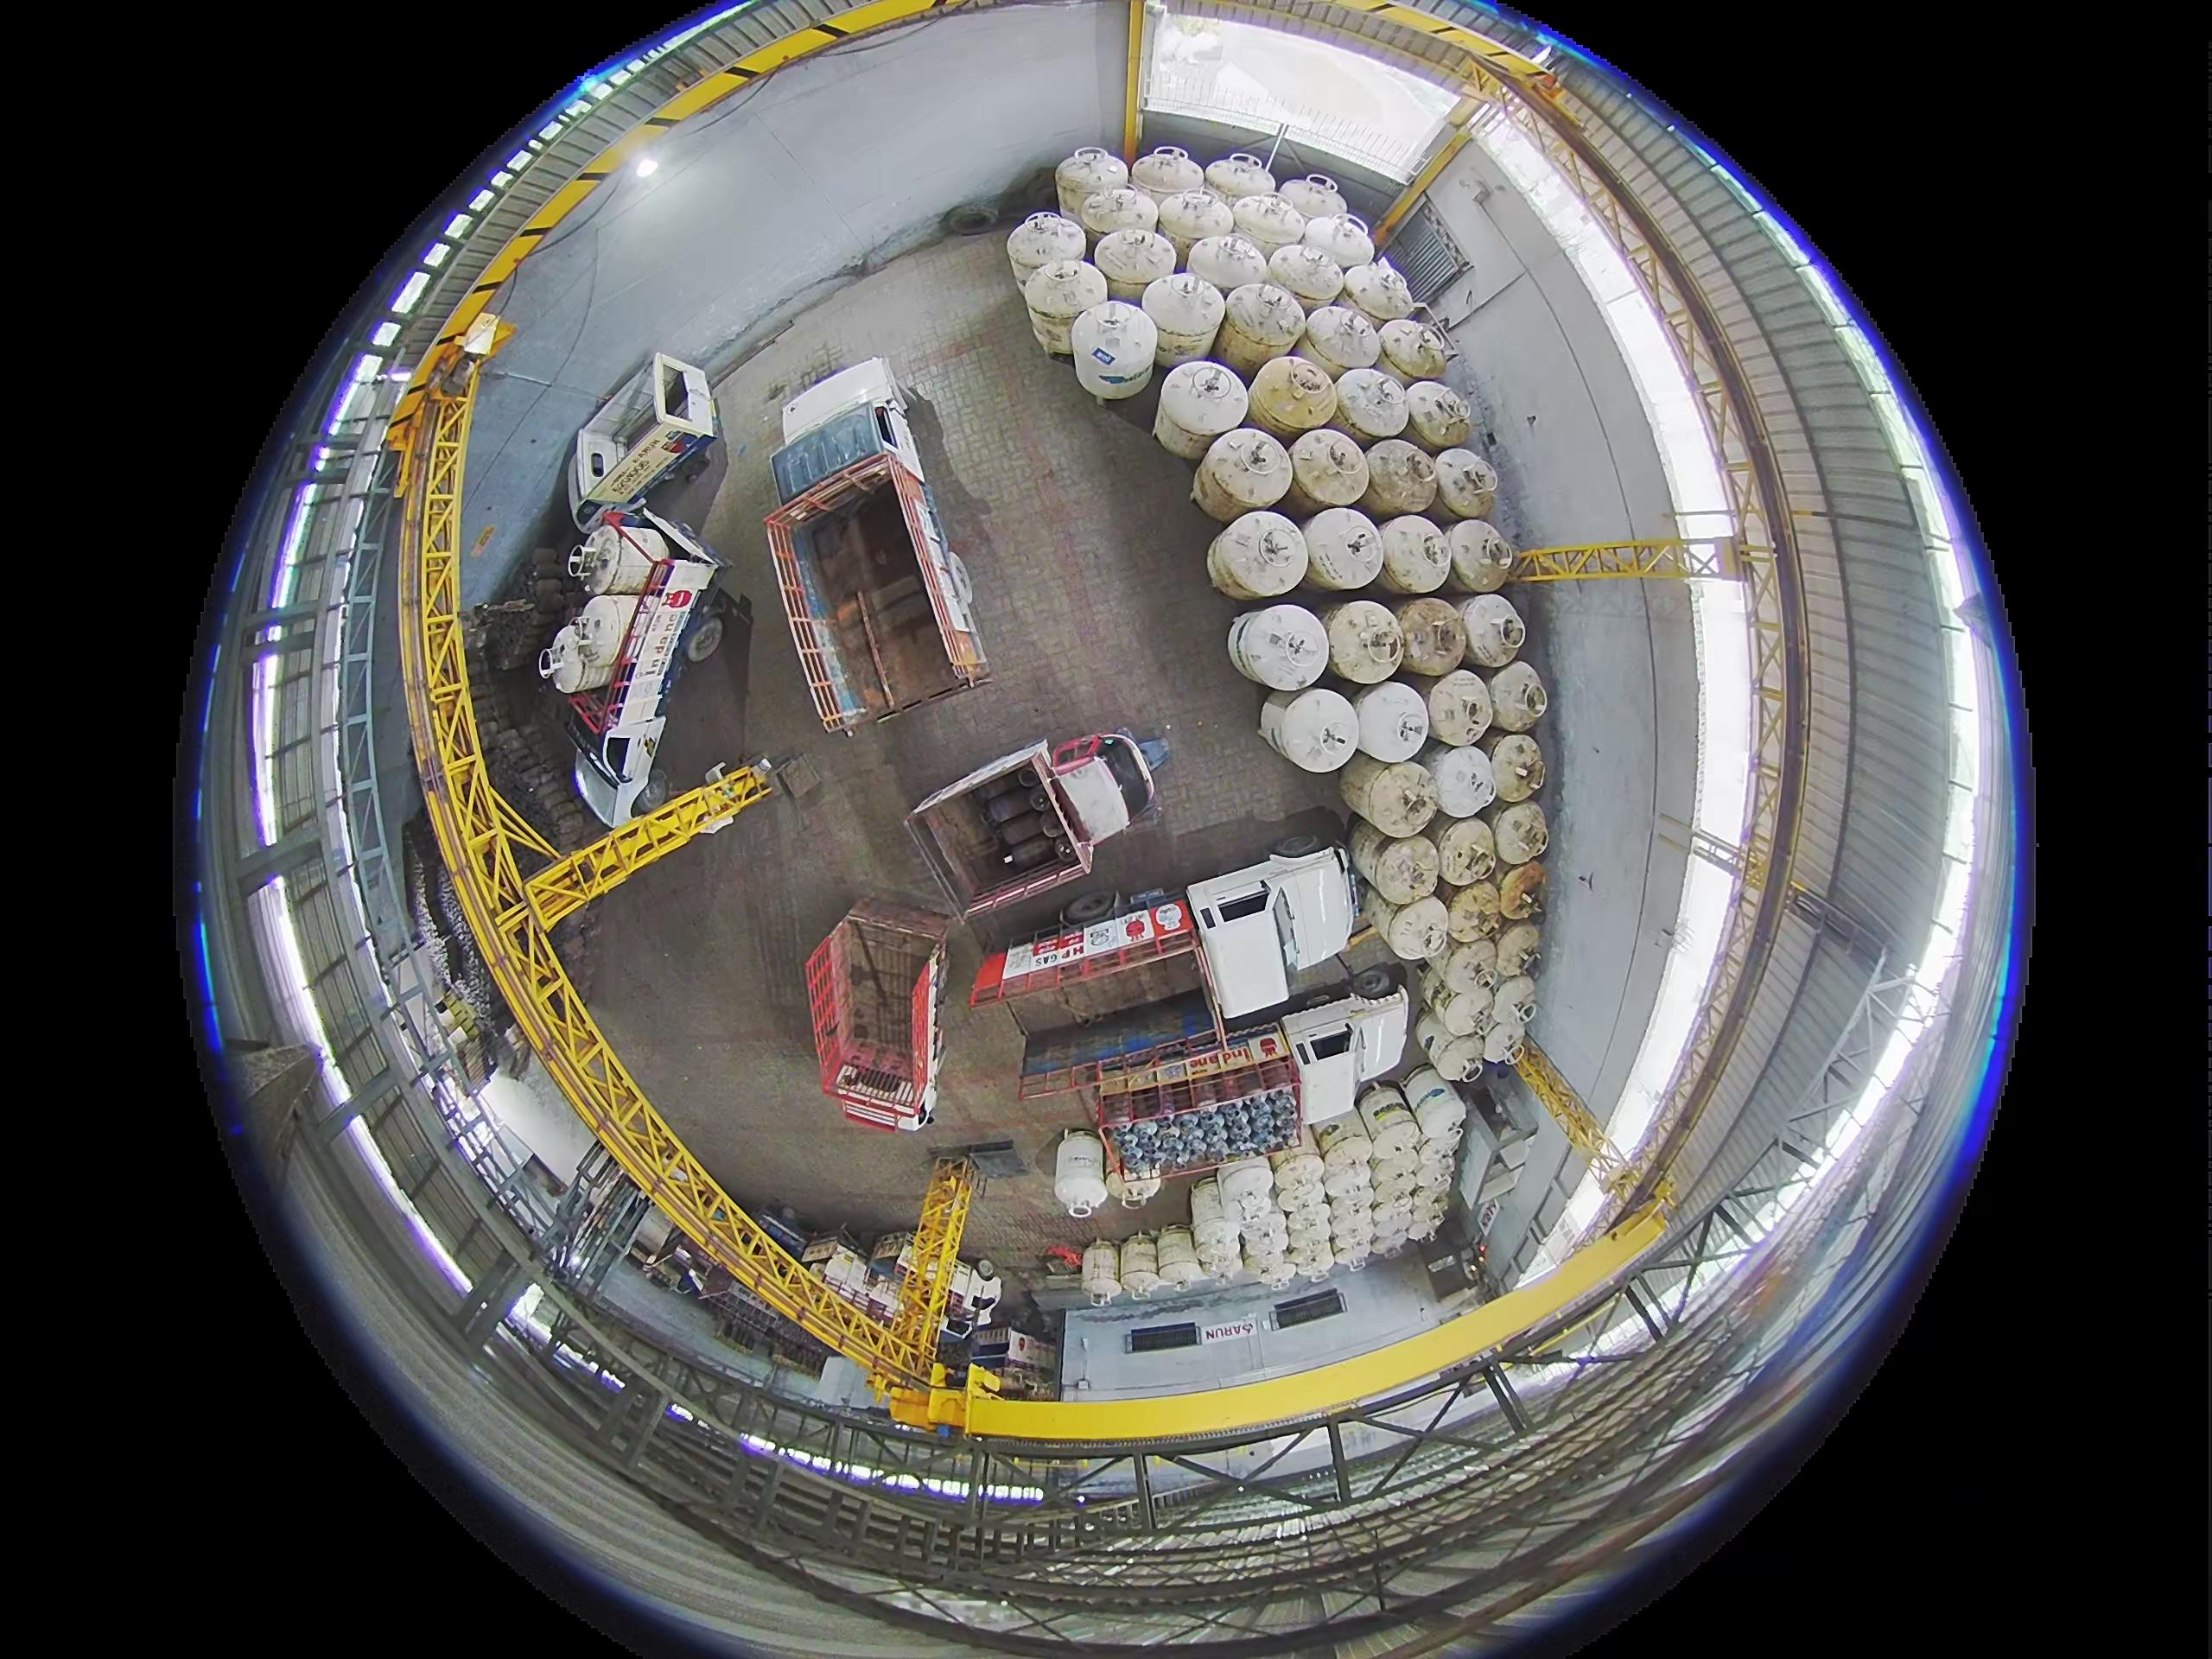cylinder: (1200, 605, 1330, 690), (541, 595, 642, 695), (1156, 359, 1250, 460), (1206, 511, 1309, 601), (1020, 257, 1105, 360), (1141, 271, 1227, 371), (1069, 301, 1154, 400), (1217, 280, 1304, 376), (565, 519, 666, 599), (1250, 354, 1340, 441), (1287, 428, 1372, 513), (1276, 686, 1362, 770), (1321, 600, 1407, 683), (1300, 507, 1385, 590), (1355, 682, 1433, 764), (1359, 759, 1440, 837), (1007, 211, 1086, 290), (1331, 365, 1410, 444), (1362, 438, 1440, 517), (1186, 230, 1272, 301), (1191, 445, 1268, 524), (1377, 514, 1452, 593), (1055, 148, 1128, 228), (1094, 226, 1174, 298), (1303, 304, 1382, 377), (1155, 190, 1234, 263), (1396, 596, 1468, 675), (1425, 669, 1496, 747), (1267, 239, 1344, 309), (1081, 184, 1157, 255), (1369, 835, 1442, 906), (1432, 447, 1502, 521), (1458, 594, 1528, 668), (1430, 744, 1499, 819), (1401, 380, 1472, 452), (1444, 518, 1514, 591), (1229, 191, 1305, 255), (1376, 317, 1449, 383), (1435, 814, 1501, 886), (1342, 260, 1414, 325), (1053, 1134, 1107, 1221), (1483, 660, 1548, 732), (1301, 212, 1375, 275), (1382, 893, 1452, 958), (1128, 146, 1202, 207), (1217, 1154, 1276, 1223), (1490, 799, 1550, 867), (1391, 1060, 1450, 1128), (1203, 152, 1274, 207), (1445, 881, 1506, 944), (1488, 732, 1545, 799), (1279, 173, 1348, 226), (1433, 982, 1496, 1040), (1440, 940, 1498, 1000), (1412, 1088, 1468, 1150), (1357, 1082, 1416, 1141), (1426, 1027, 1486, 1084), (1492, 919, 1543, 978), (1191, 1219, 1242, 1278), (1497, 861, 1548, 919), (1488, 975, 1539, 1033), (1368, 1121, 1423, 1173), (1189, 1178, 1232, 1244), (1484, 1003, 1531, 1061), (1274, 1150, 1329, 1196), (1323, 1134, 1376, 1180), (1082, 1242, 1122, 1303), (1238, 1217, 1287, 1267), (1308, 1114, 1362, 1159), (1259, 694, 1297, 757), (1121, 1235, 1160, 1293), (1328, 1161, 1376, 1209), (1370, 1160, 1422, 1204), (1111, 1166, 1161, 1210), (1154, 1244, 1198, 1290), (1417, 1147, 1459, 1196), (1287, 1233, 1333, 1274), (1332, 1222, 1372, 1267), (1367, 1191, 1413, 1229), (1406, 1181, 1444, 1227), (1249, 1252, 1295, 1288), (1368, 1221, 1412, 1257), (1224, 1253, 1264, 1287)
truck: (971, 836, 1358, 1103), (1070, 971, 1414, 1202), (769, 364, 981, 729), (539, 505, 721, 827), (907, 730, 1168, 914), (806, 902, 949, 1131), (556, 356, 707, 518)
